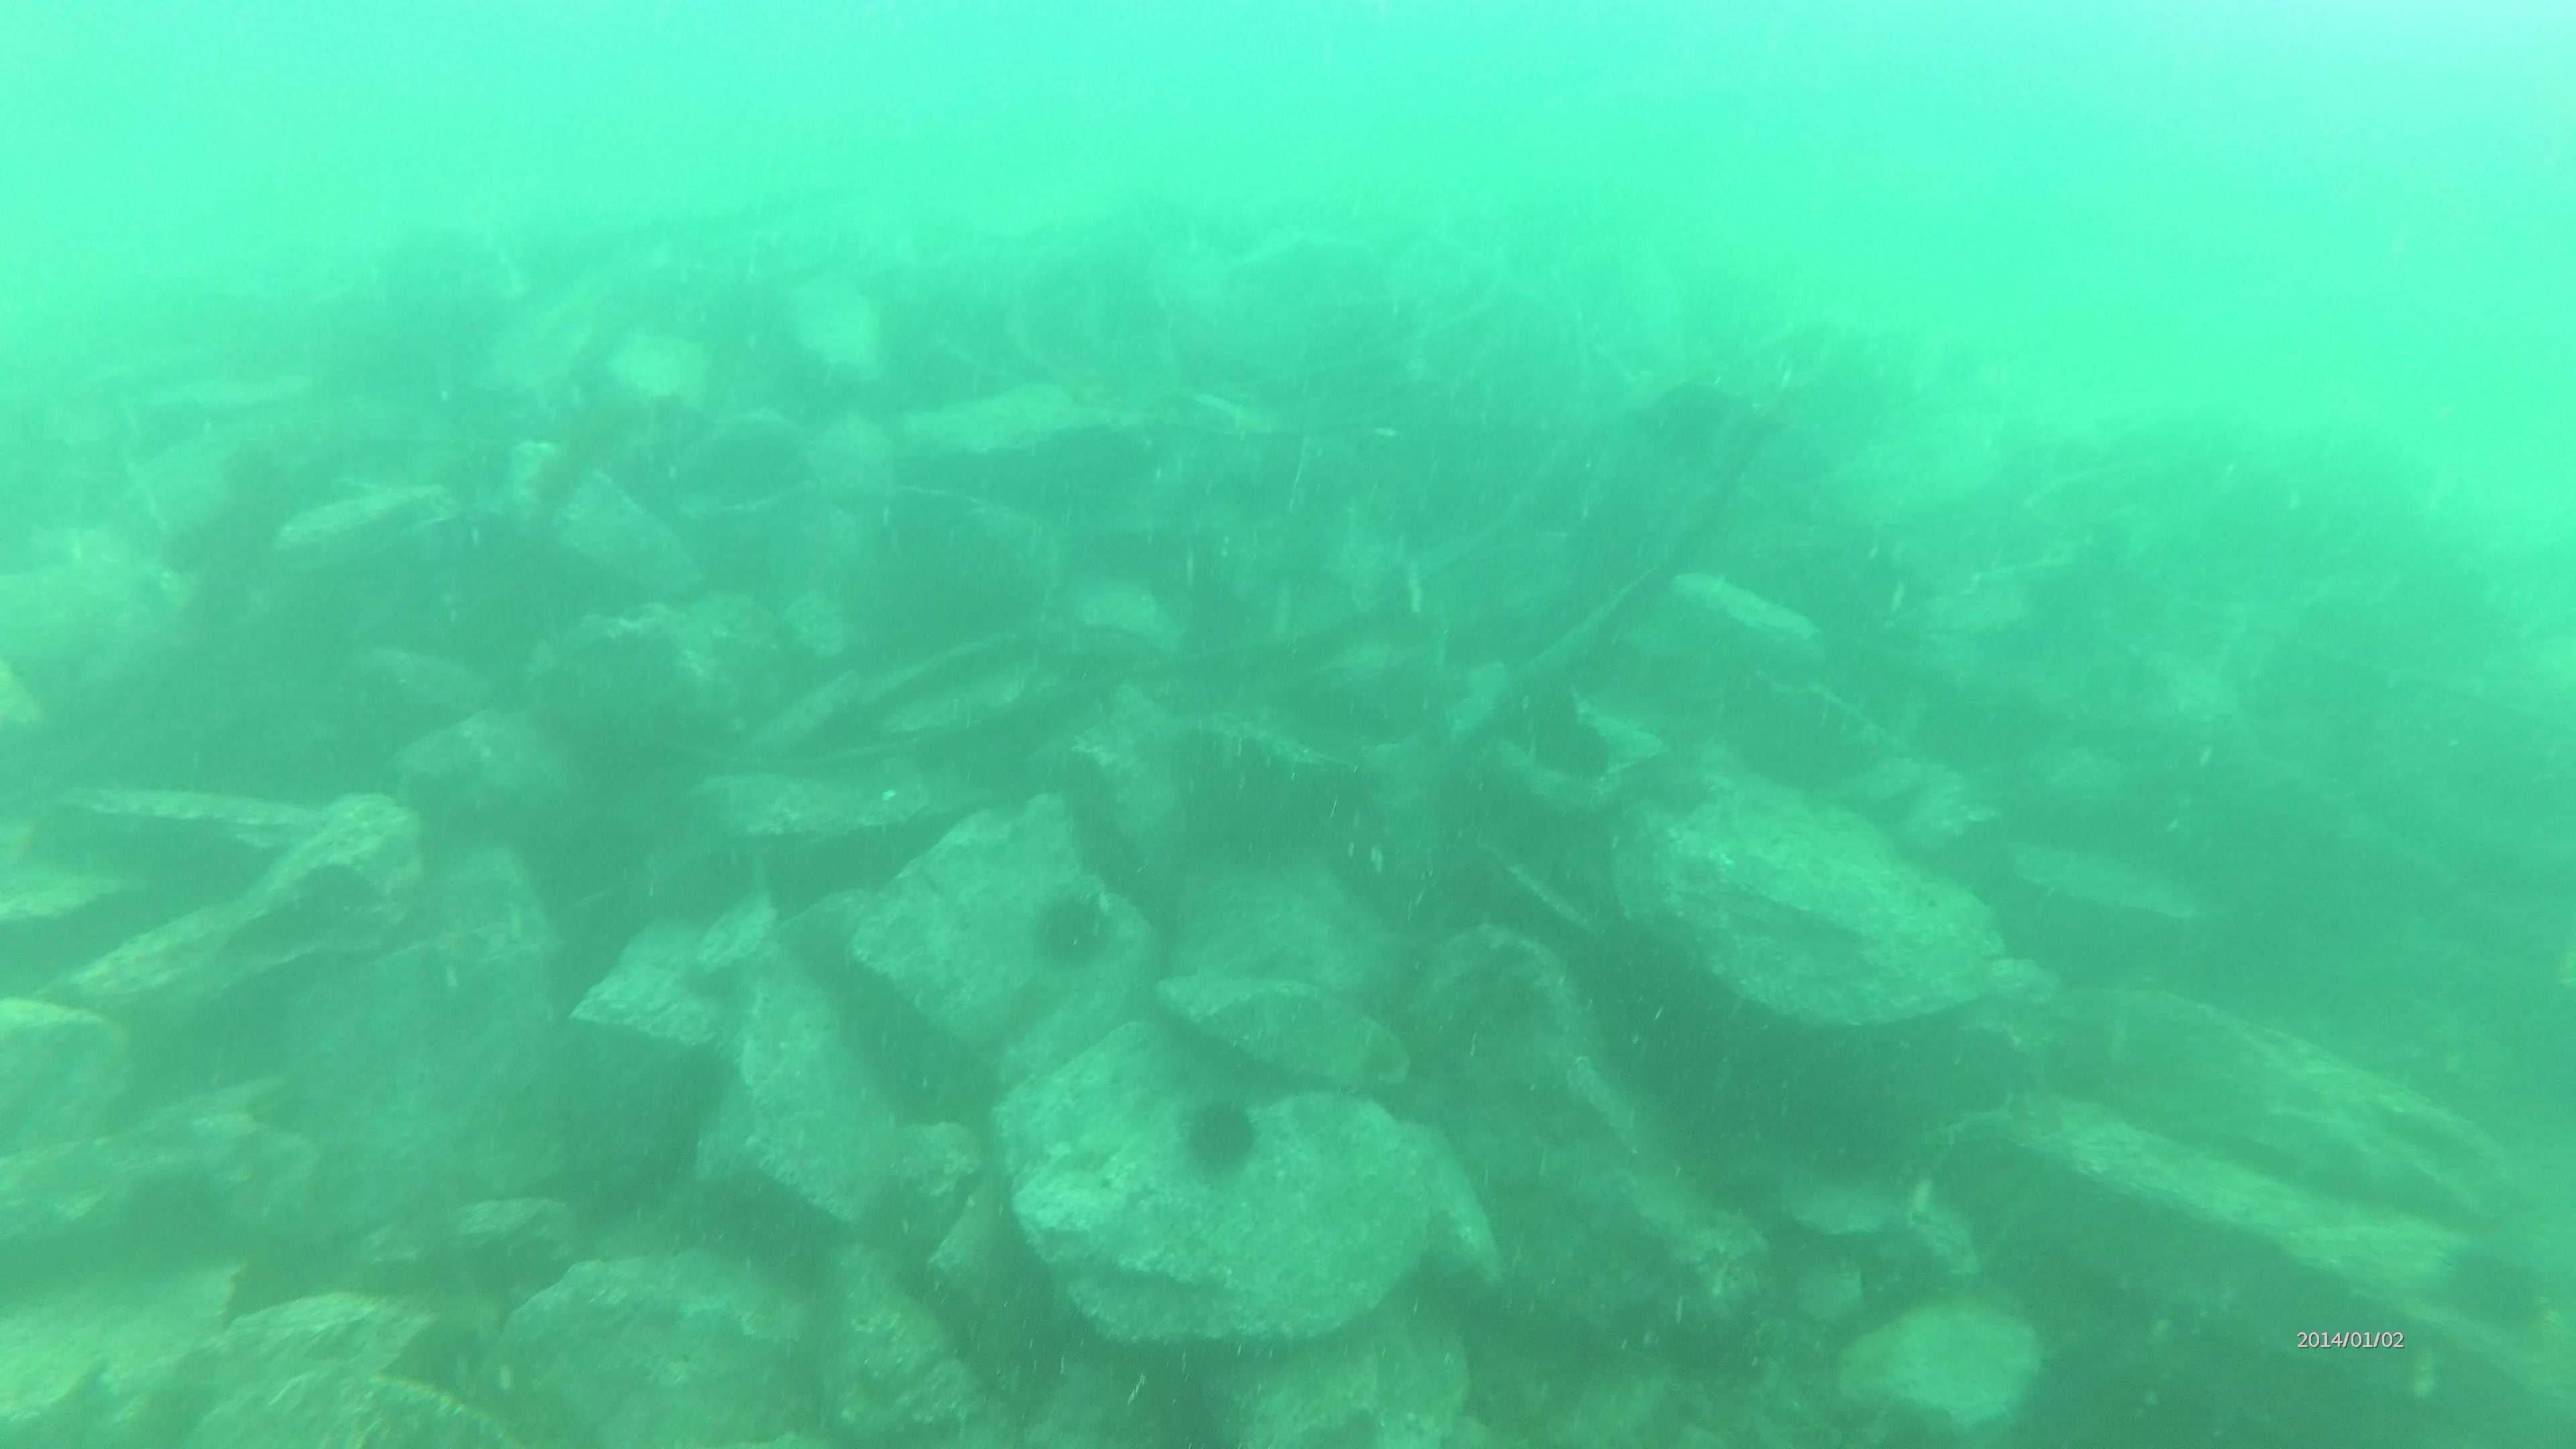echinus: (2440, 1231, 2553, 1339), (1035, 886, 1120, 971), (1182, 1088, 1265, 1171)
